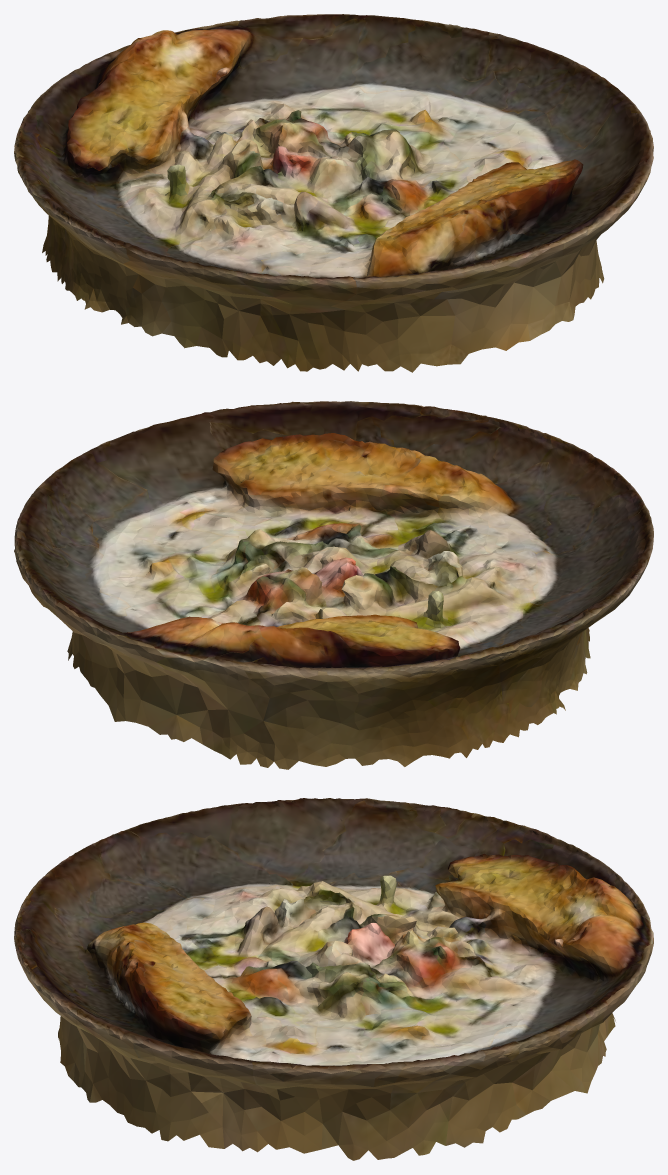
File: pasta-final.glb
3 views of the same model, one above another, from view 1: azimuth 30°, elevation 25°; view 2: azimuth 150°, elevation 25°; view 3: azimuth 270°, elevation 25° (orthographic).
Size of the model in its own units: 0.271 by 0.0658 by 0.2719.
Materials: 1 (1 with a texture image).
